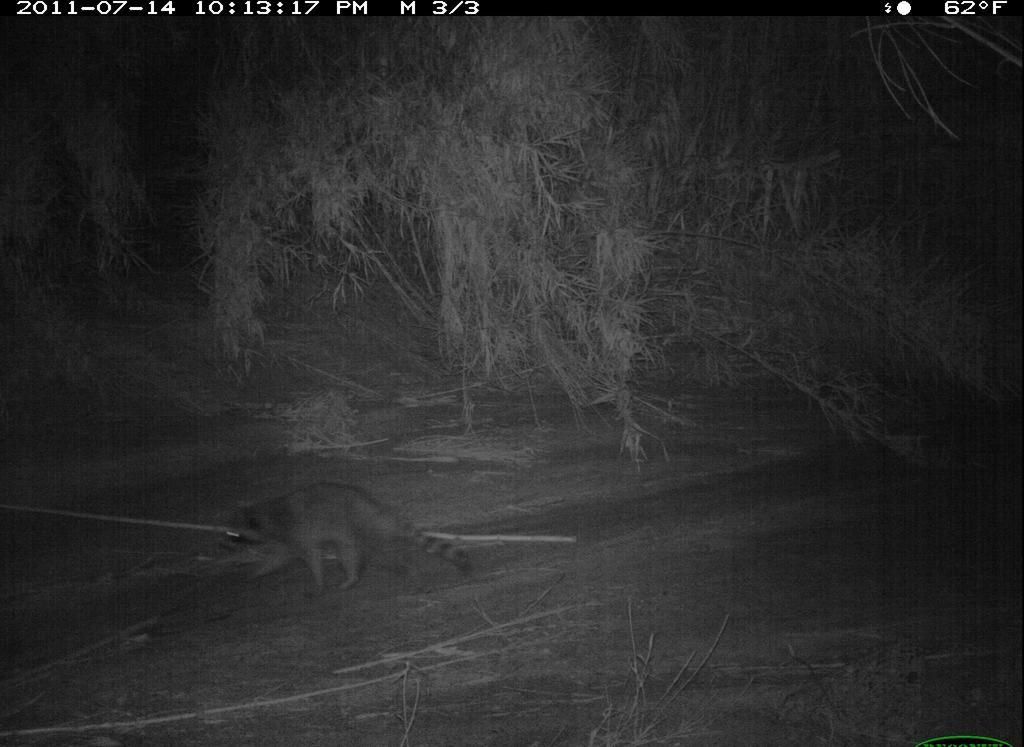raccoon: (216, 482, 479, 597)
